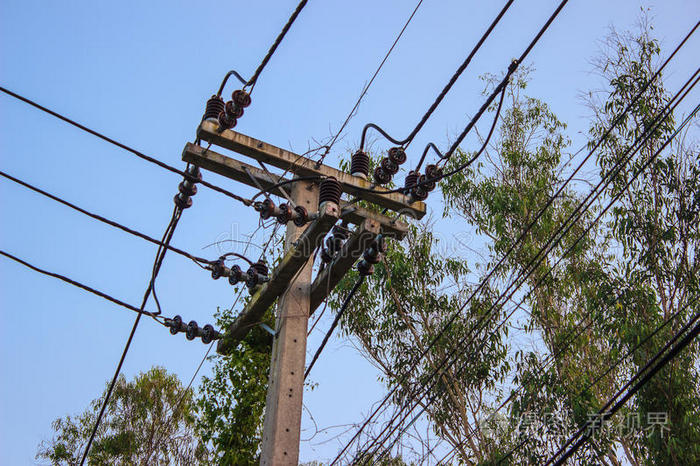insulator: (208, 258, 260, 287), (259, 198, 310, 225), (169, 316, 215, 345), (220, 87, 251, 128), (173, 167, 203, 209), (321, 221, 351, 262), (411, 162, 441, 202), (359, 239, 392, 275), (376, 148, 408, 185)
